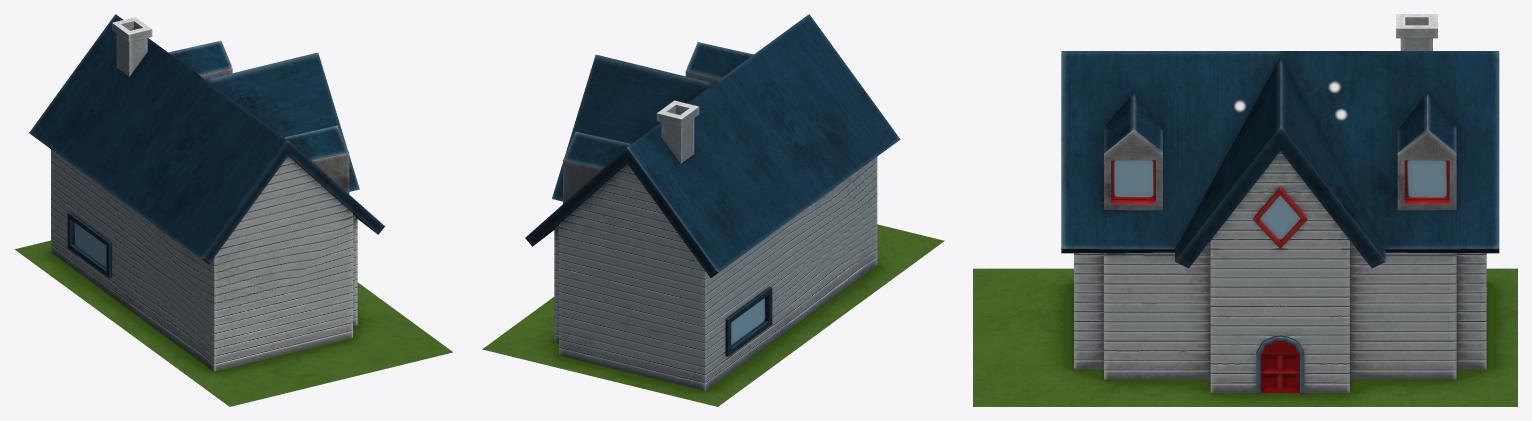
File: Casa2.dae
3 views of the same model, side by side, from view 1: azimuth 30°, elevation 25°; view 2: azimuth 150°, elevation 25°; view 3: azimuth 270°, elevation 25° (orthographic). The views are drawn at different scales.
Parts seen in each view (by area): view 1: Casa2_Low; view 2: Casa2_Low; view 3: Casa2_Low.
Boxes of the visible parts, box(x1,y1,x2,y2) form: Casa2_Low: box(15, 14, 452, 406); Casa2_Low: box(482, 14, 944, 406); Casa2_Low: box(973, 14, 1517, 406).
Bounding box in the file's own units: 6 × 10 × 5.98.
Materials: 1 (1 with a texture image).
